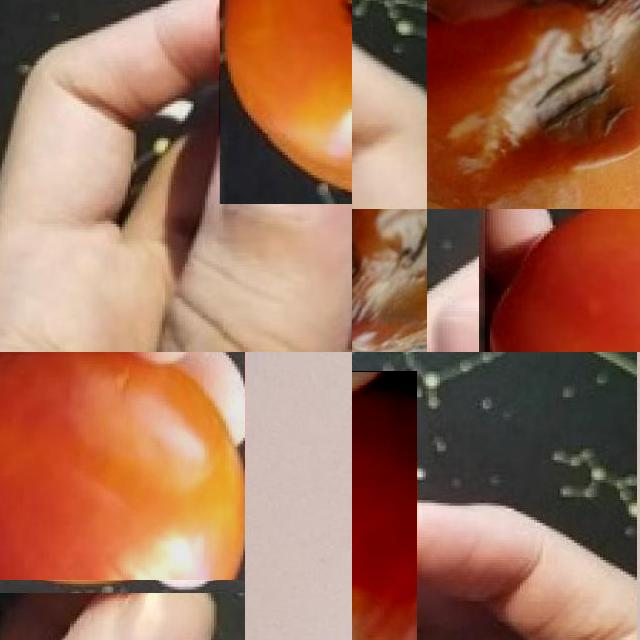Rotten Tomato: (0, 352, 245, 580), (427, 0, 640, 209), (219, 0, 352, 204), (485, 209, 640, 352), (352, 371, 417, 640), (352, 209, 427, 352)
